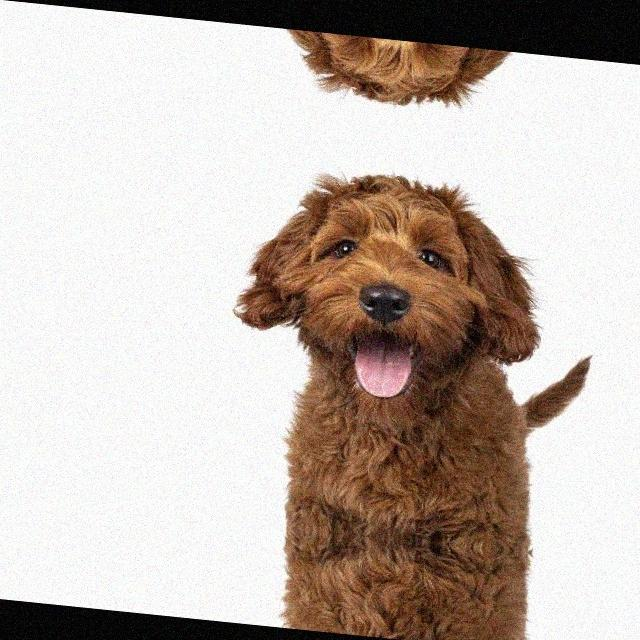dog: (234, 150, 560, 421), (240, 24, 562, 129)
